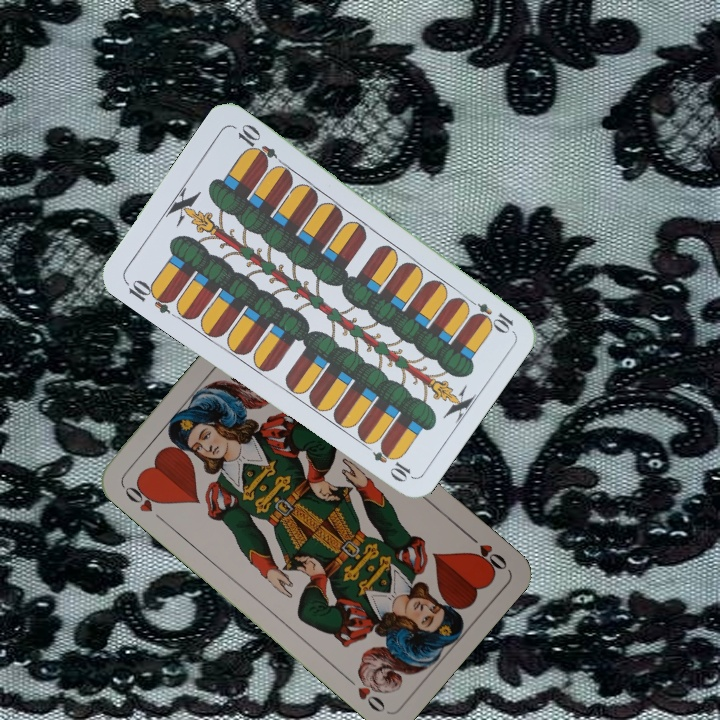E10: (461, 293, 516, 335), (121, 275, 177, 316)
HO: (119, 478, 168, 525), (461, 528, 510, 575)
